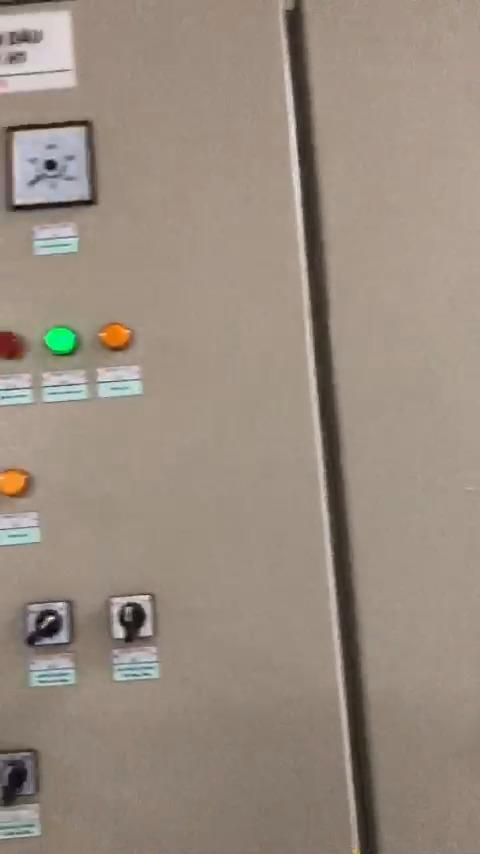led: (43, 325, 83, 361), (0, 462, 30, 503), (100, 324, 133, 354), (0, 325, 19, 362)
twist: (107, 590, 158, 646), (23, 599, 74, 653), (0, 748, 40, 804)
